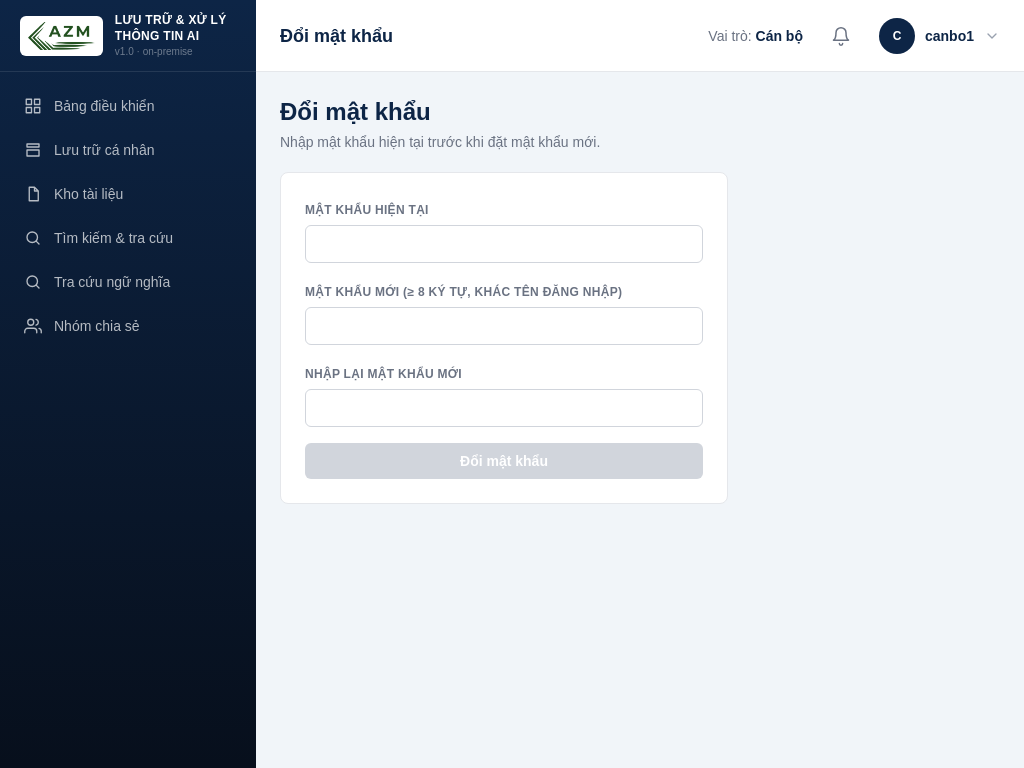
Test case: ChangePasswordPage › submits the new password and shows a success message
Step 1. Type "oldpass1" into the password field labelled "Mật khẩu hiện tại" → (504, 244), box [305,225,703,263]
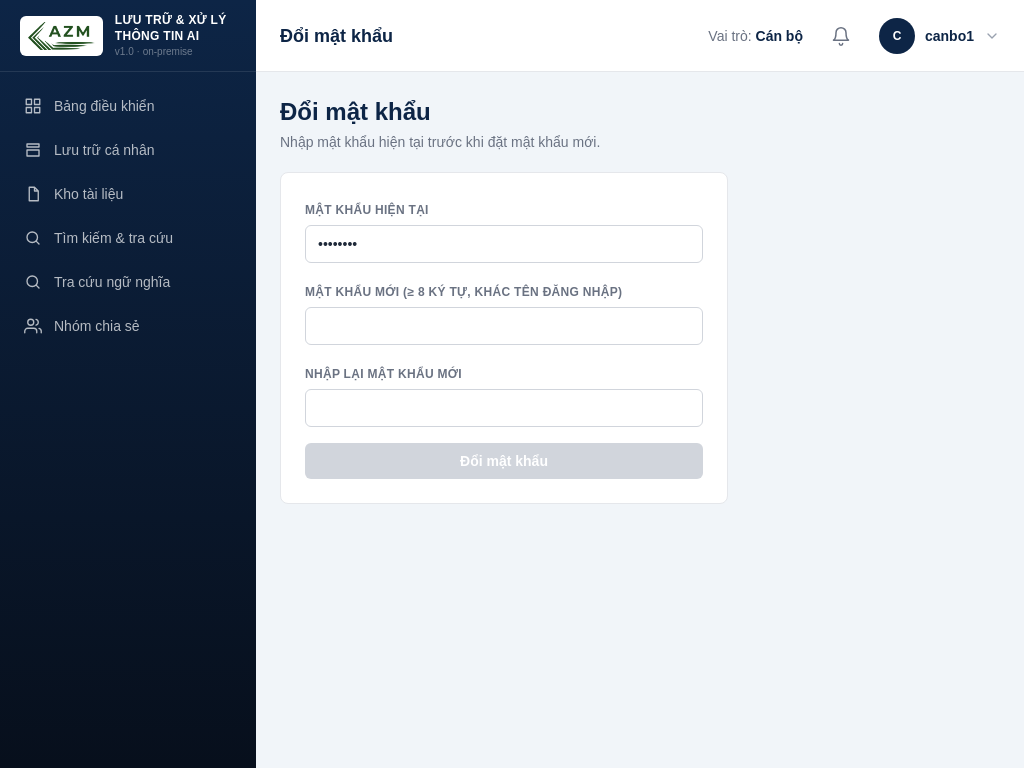
Step 2. Type "newpass123" into the password field labelled "Mật khẩu mới (≥ 8 ký tự, khác tên đăng nhập)" → (504, 326), box [305,307,703,345]
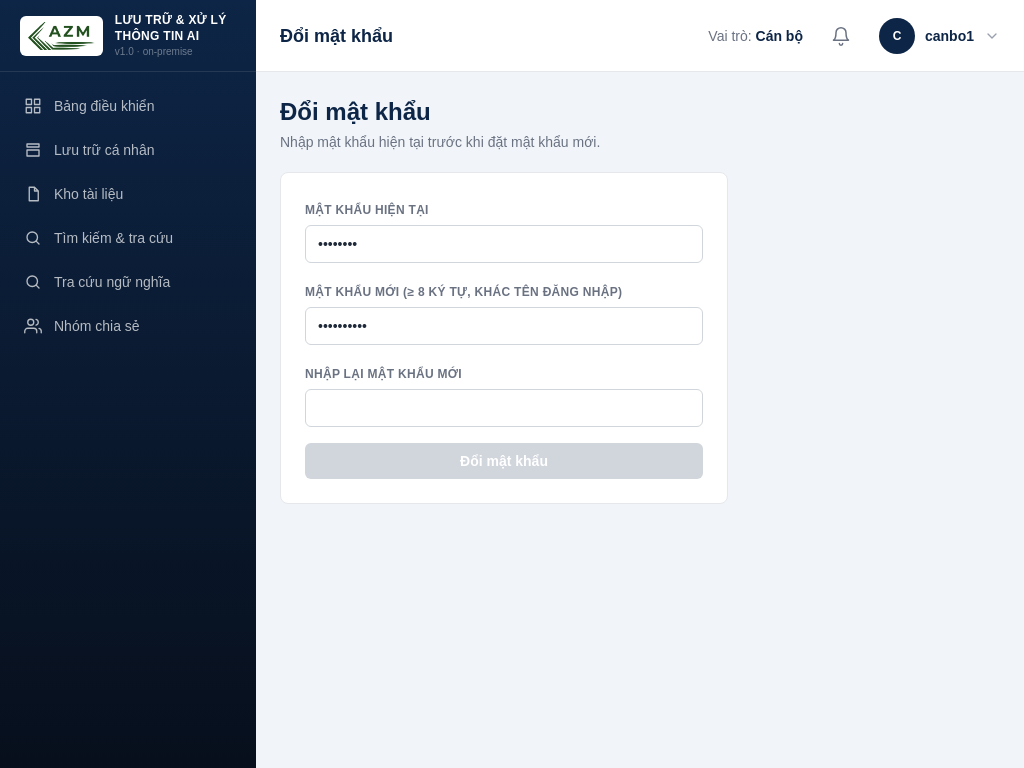
Step 3. Type "newpass123" into the password field labelled "Nhập lại mật khẩu mới" → (504, 408), box [305,389,703,427]
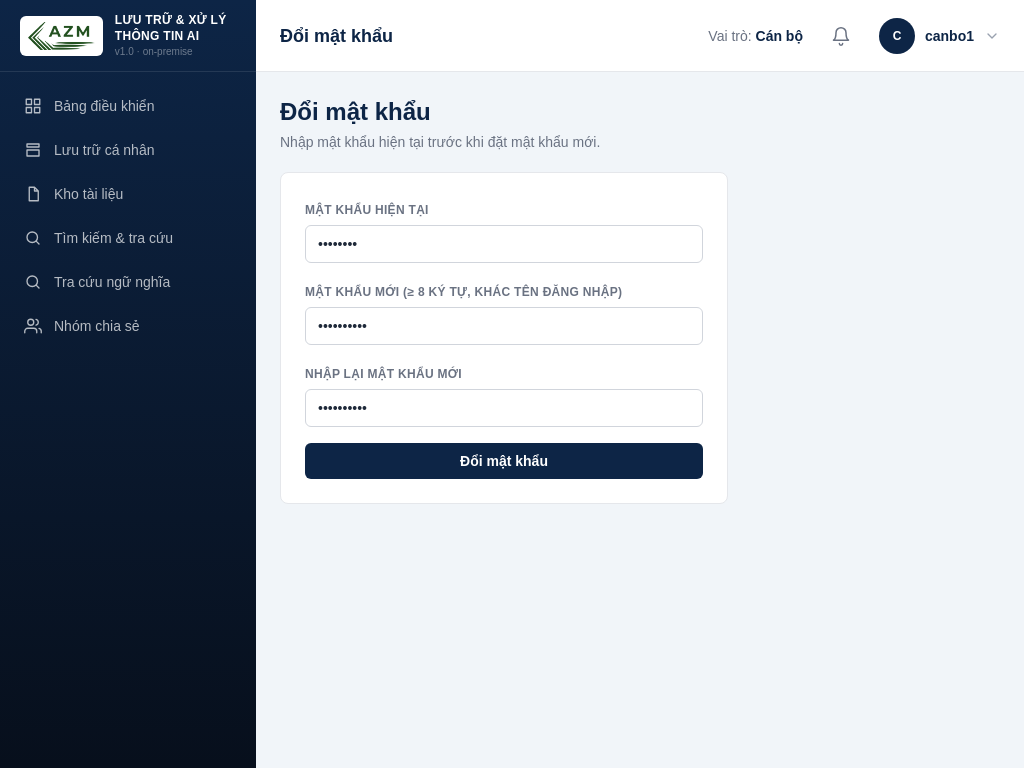
Step 4. Click the button "Đổi mật khẩu" → (504, 461), box [305,443,703,479]
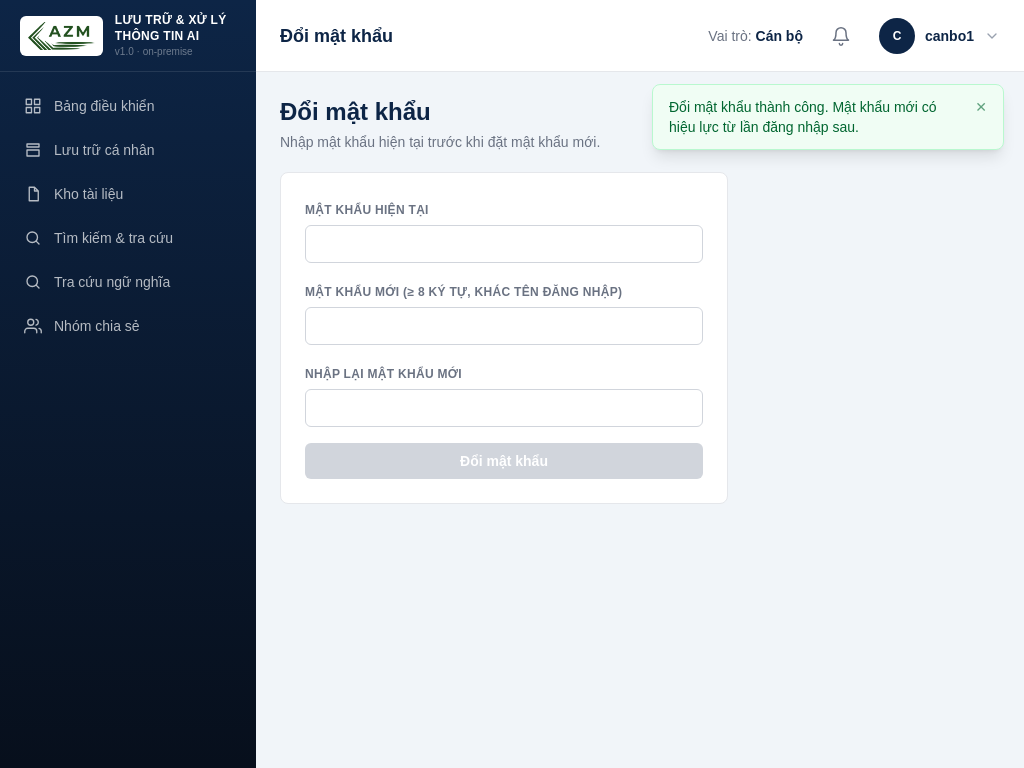
Expected: the text "thành công" is shown, [669,99,936,135]
Expected: the password field labelled "Mật khẩu hiện tại" is empty, [305,225,703,263]
